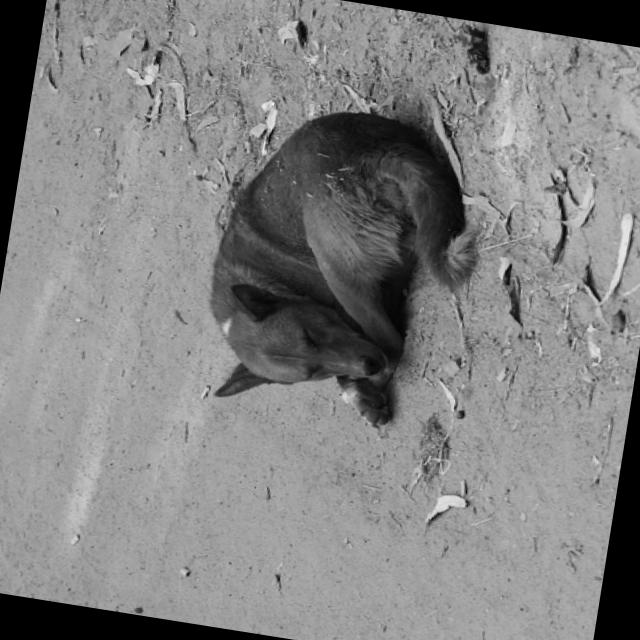laying down: (183, 88, 497, 442)
